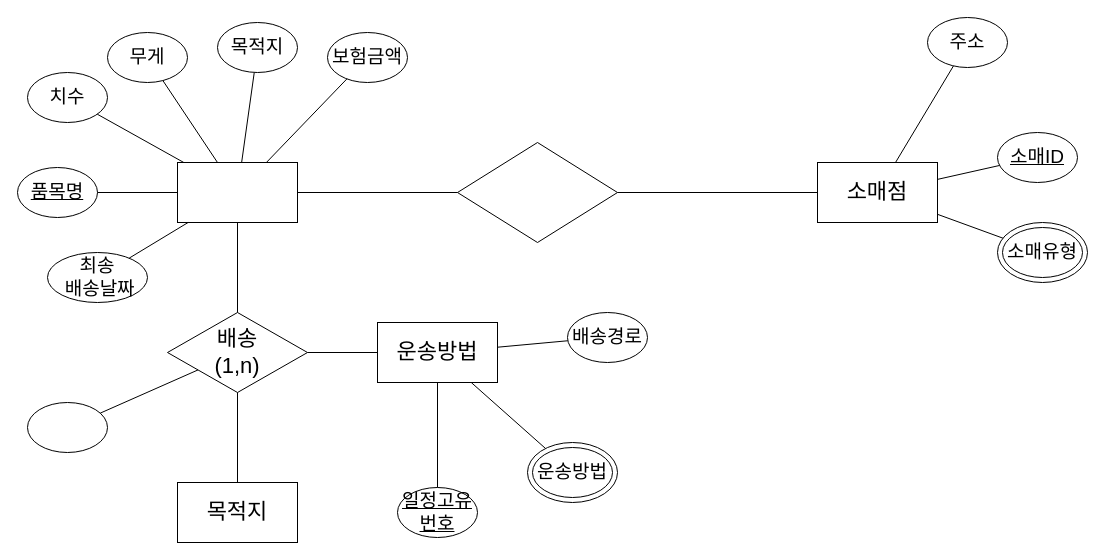
This 1105x560 diagram has some shape labels left out. Here are the shapes that lost their labels. From the top down, the box of each, then its label:
(176, 162, 298, 222): 배송품목
(456, 142, 618, 242): 정보전달 (n:1)
(26, 402, 108, 452): 최신위치
